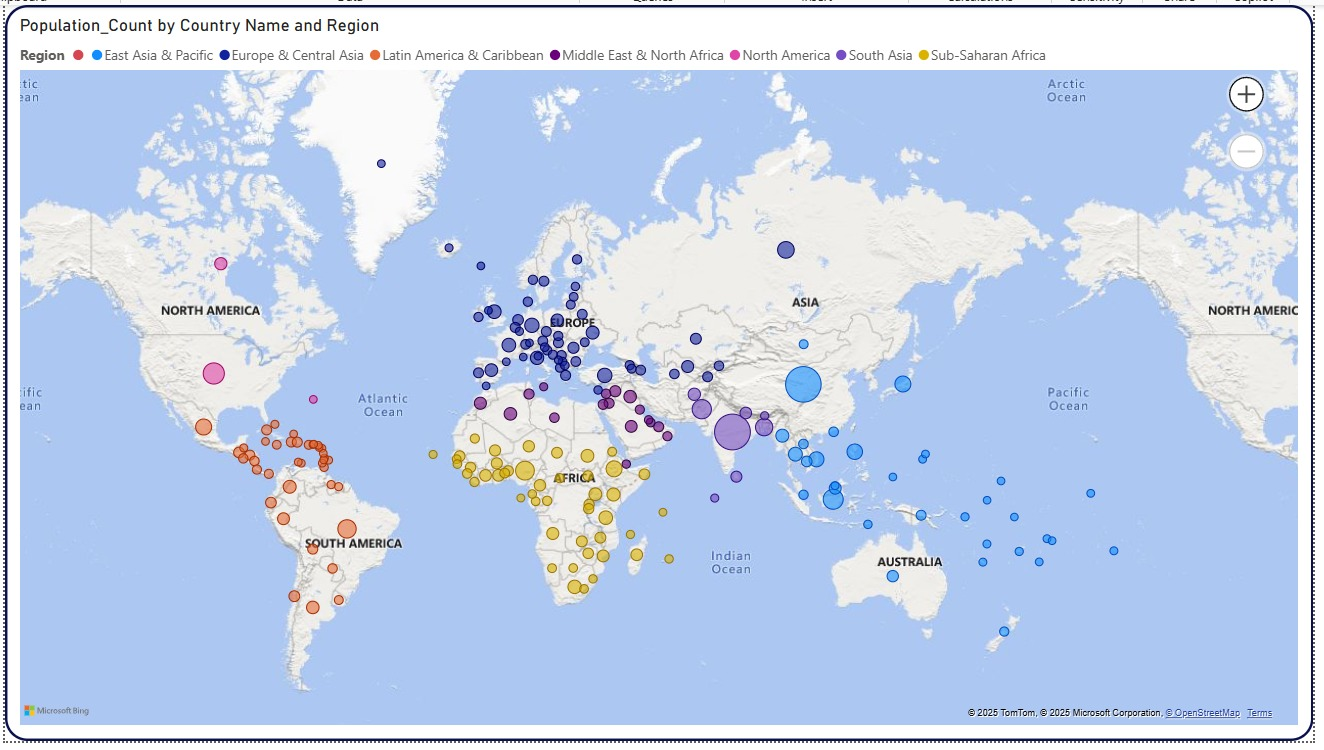

The dashboard page shown, as its layout file describes it:
{"tool":"powerbi","page":{"name":"Page 2","canvas":[1280,720],"ordinal":1},"visuals":[{"type":"map","fields":{"Category":["data.Country Name"],"Size":["Max(data.Population_Count)"],"Series":["Metadata_Country_API_SP POP TOTL_DS2_en_csv_v2_87.Region"]},"box":[0,0,1280.3,720.2],"z":1}]}

Visuals, with their boxes in screenshot pixels (x1, y1, x2, y2), scaled from the page's 1280x720 canvas onto the 1324x750 screenshot:
map - data.Country Name x Max(data.Population_Count): 0 0 1323 749
